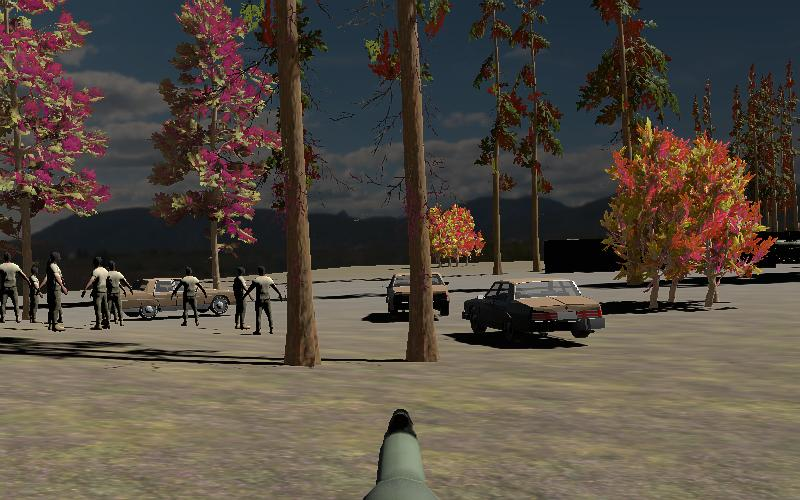Human: (246, 264, 285, 336), (82, 254, 113, 331), (172, 264, 208, 329), (232, 264, 251, 332)
Tank: (764, 235, 800, 265)
car: (461, 276, 607, 344), (119, 275, 235, 321), (384, 267, 452, 321)
